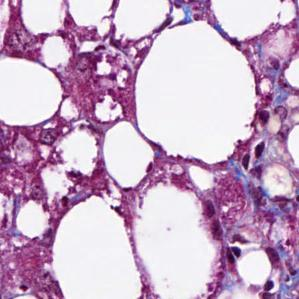inflammation: (240, 138, 268, 181)
